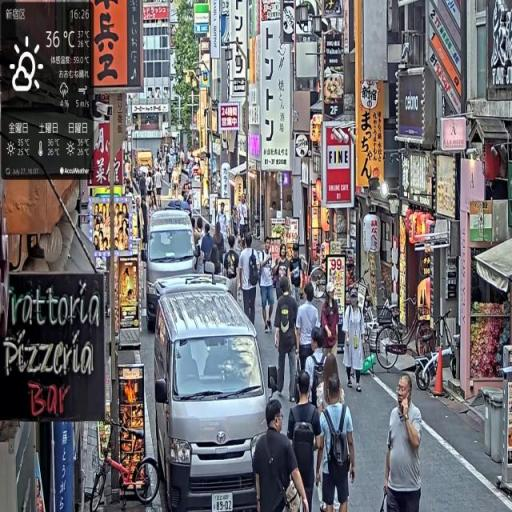person: (252, 397, 312, 512), (381, 372, 423, 512), (318, 364, 357, 512), (287, 371, 325, 512), (273, 275, 301, 405), (296, 283, 321, 392), (343, 289, 366, 396), (238, 231, 261, 330), (258, 236, 278, 338), (320, 285, 341, 358), (200, 224, 219, 281), (226, 236, 241, 305)
